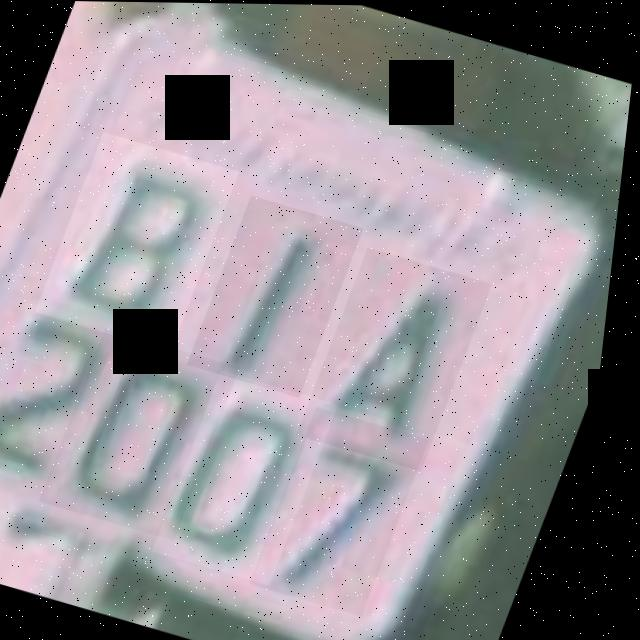0: (46, 328, 251, 541), (162, 369, 349, 585)
1: (192, 194, 371, 397)
2: (0, 285, 153, 511)
3: (0, 484, 141, 603)
7: (259, 405, 441, 616)
A: (303, 245, 501, 471)
B: (39, 131, 246, 351)
